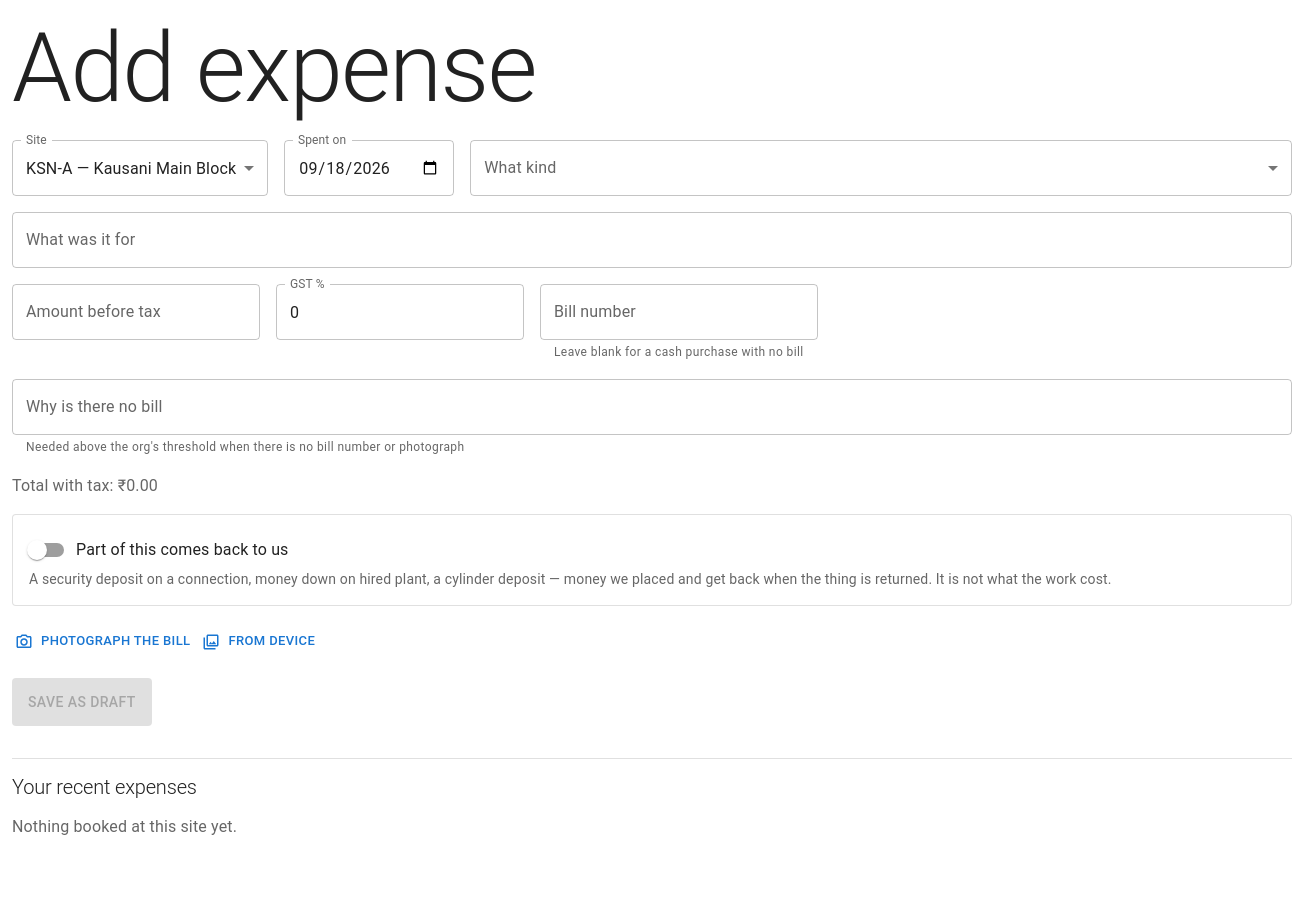
Test: AddExpensePage › refuses a deposit bigger than the bill
Expected: the dropdown named "Site" is shown, [26,158,236,178]
Click the dropdown named "What kind".
click(881, 168)  # box [470,140,1292,196]
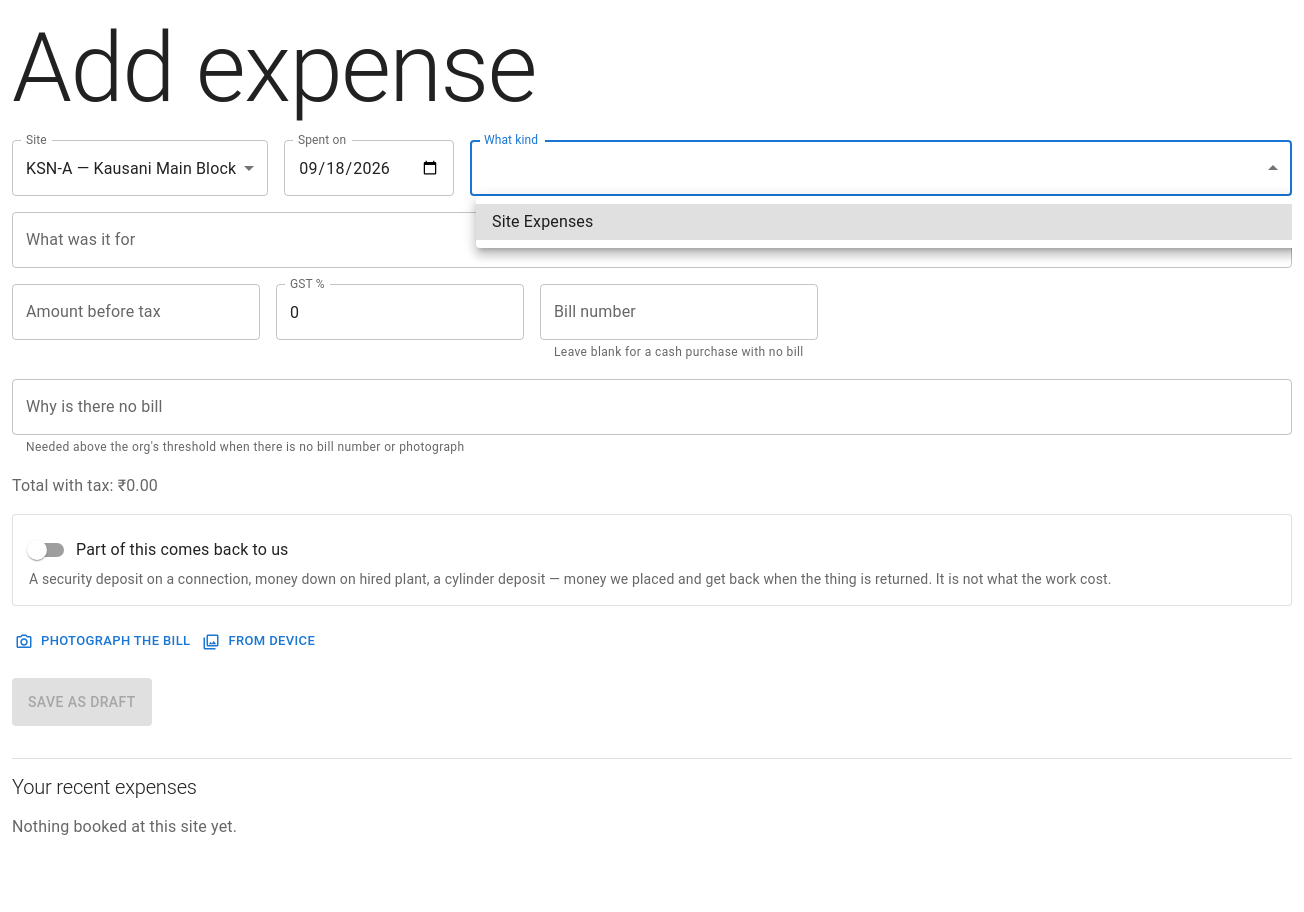
Click the option "Site Expenses".
click(543, 222)  # box [476,204,1292,240]
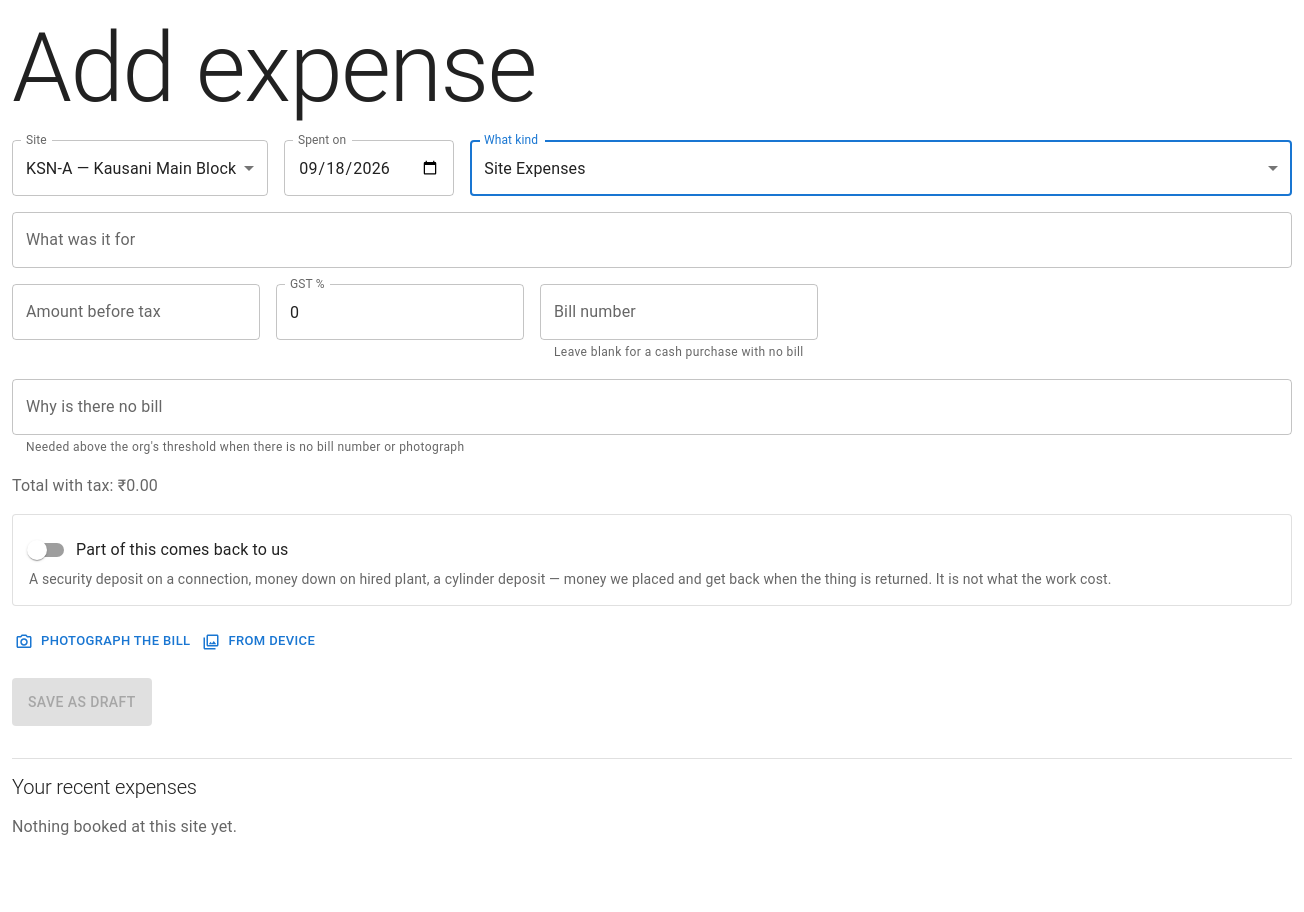
Type "Connection" into the field labelled "What was it for".
click(652, 240); type("Connection")  # box [12,212,1292,268]
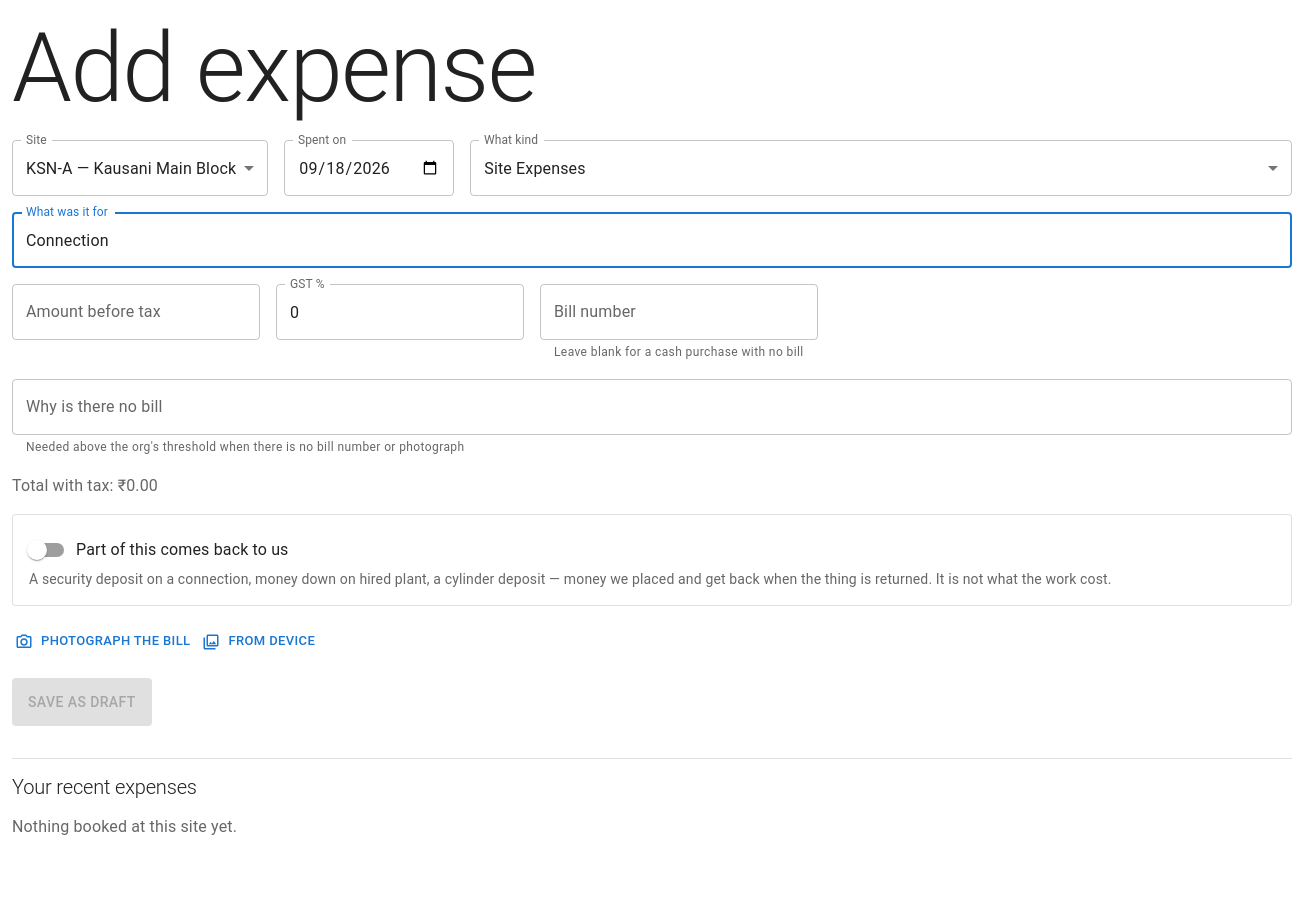
Type "4500" into the number field labelled "Amount before tax".
click(136, 312); type("4500")  # box [12,284,260,340]
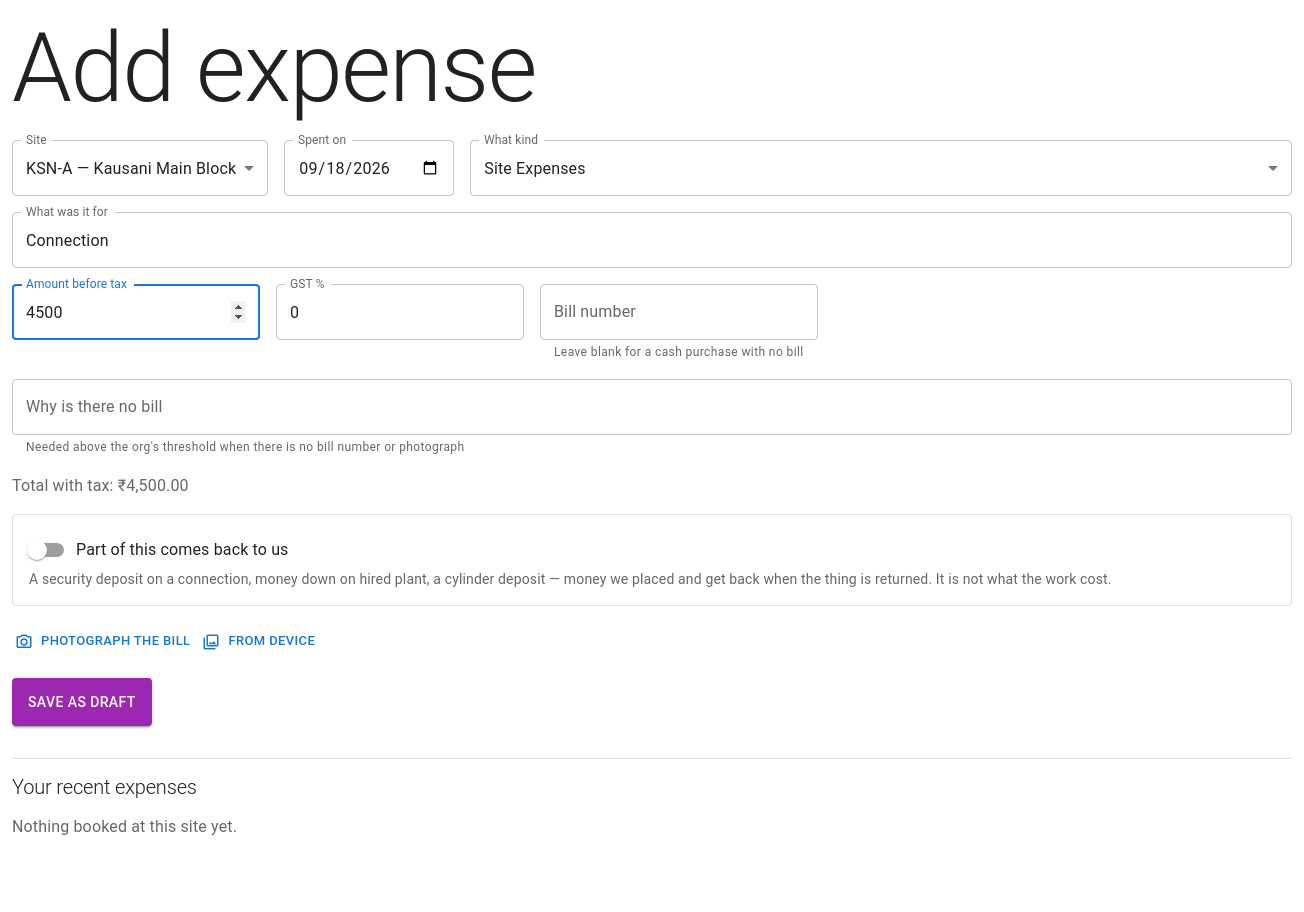
Click the checkbox labelled "Part of this comes back to us".
click(158, 550)  # box [27,540,288,560]
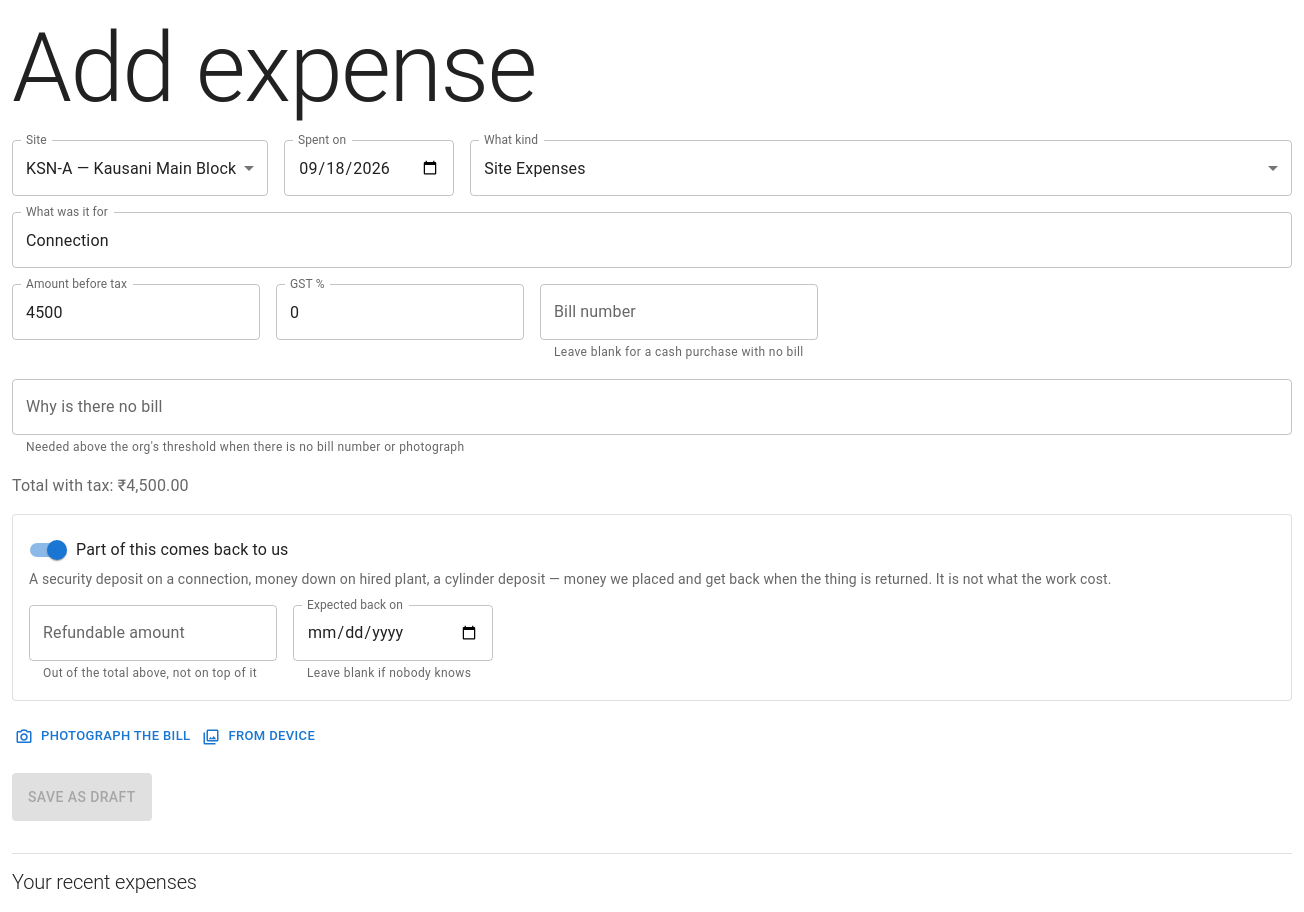
Type "12000" into the number field labelled "Refundable amount".
click(153, 633); type("12000")  # box [29,605,277,661]
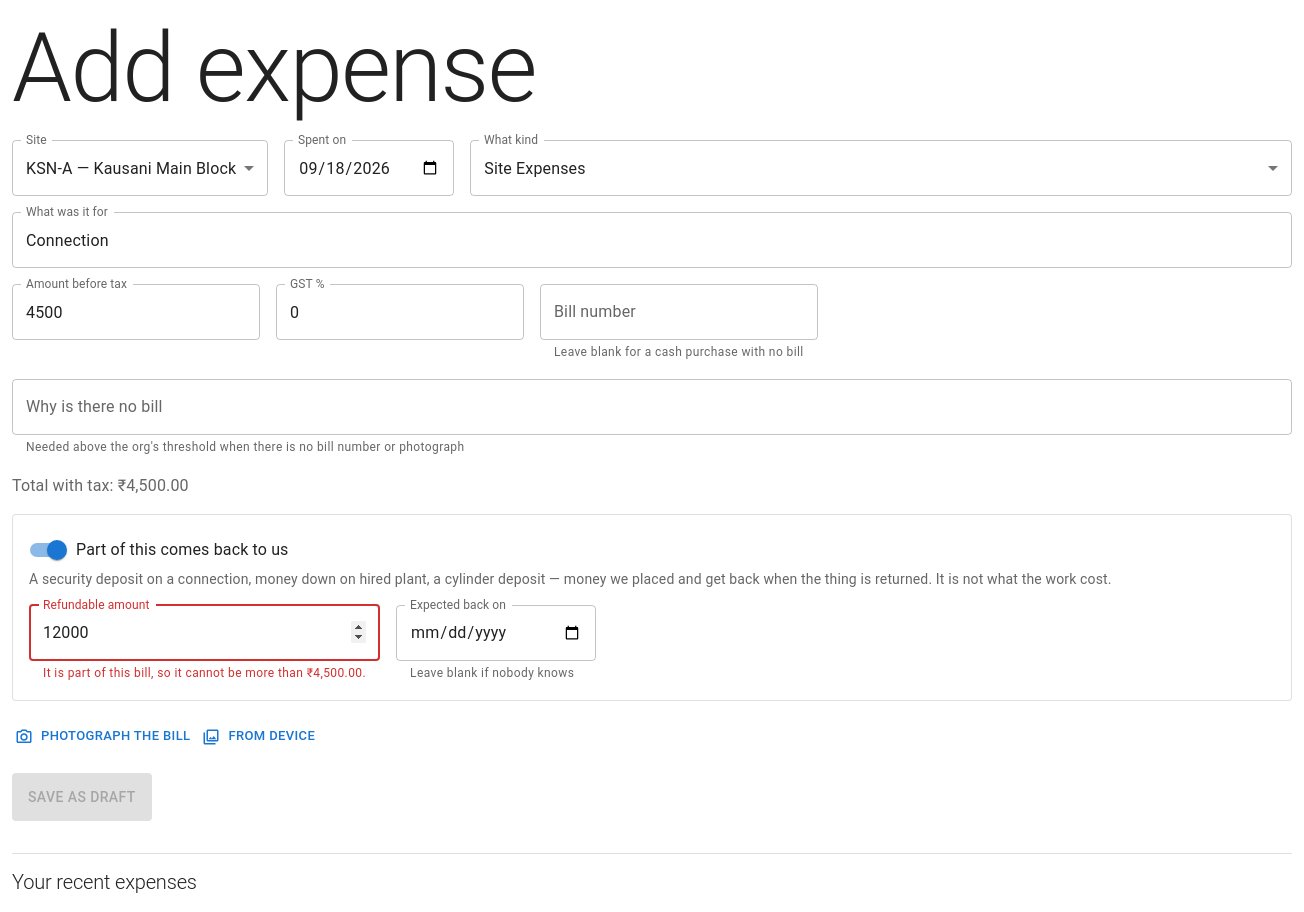
Expected: the button "Save as draft" is disabled, [12,773,152,821]
Expected: the text "cannot be more than ₹4,500" is shown, [43,666,366,680]
